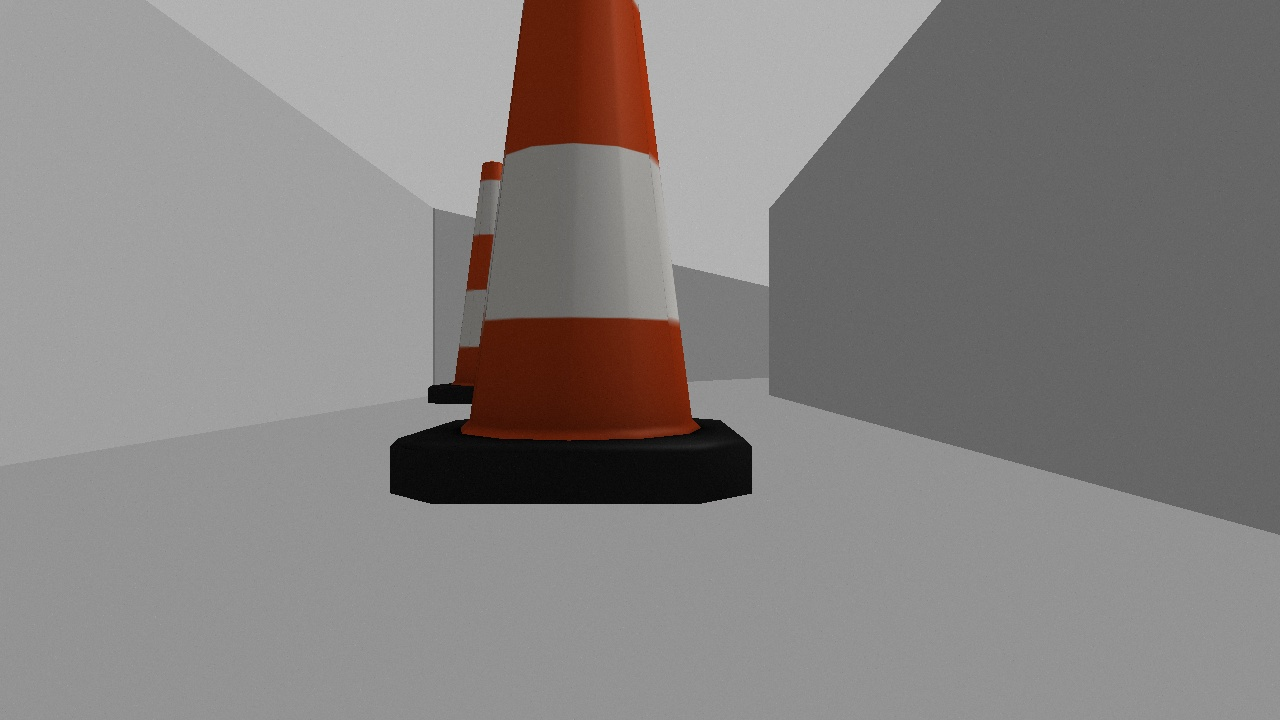barricade: (362, 1, 784, 530), (422, 149, 557, 413)
